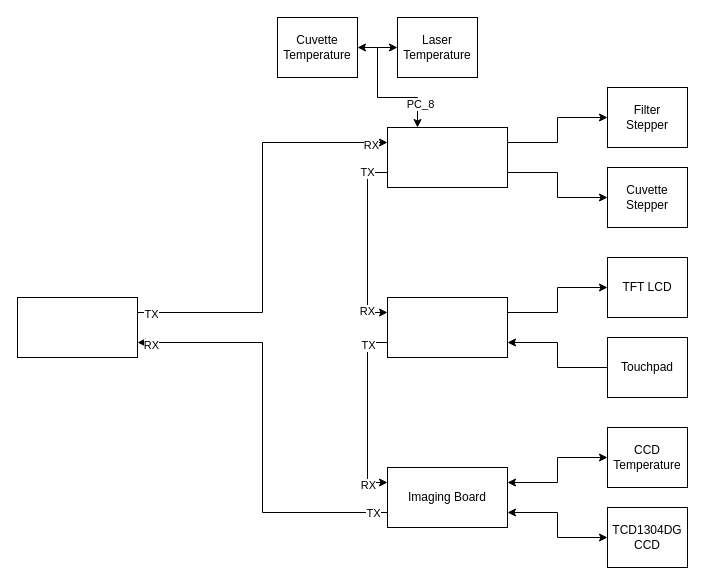
This 705x585 diagram has some shape labels left out. Here are the shapes that lost their labels. From the top down, the centre of each, then its label:
At point 447,157: "Control Board".
At point 77,327: "Raspberry Pi".
At point 447,327: "Interface Board".
